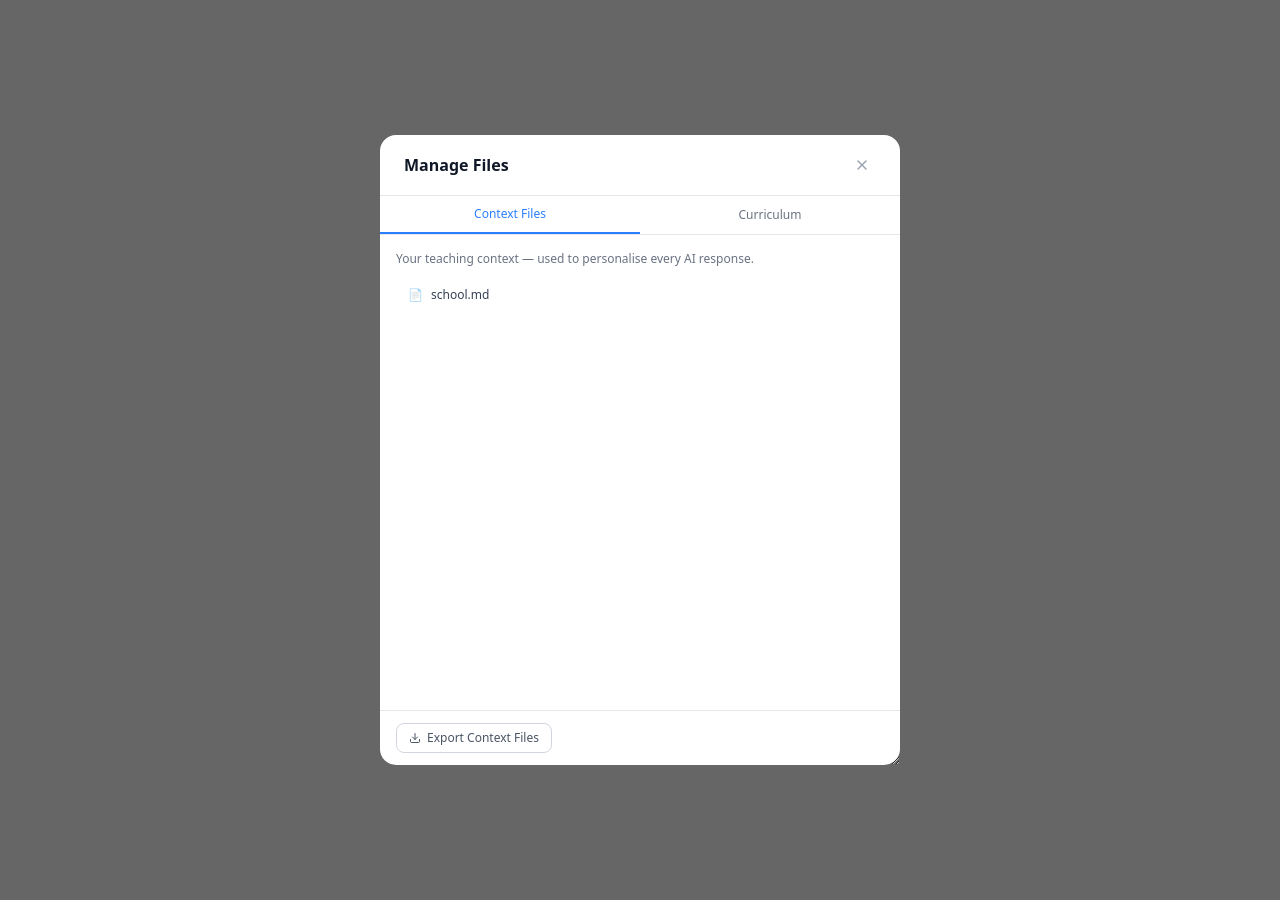
Scenario: ManageFilesModal › shows curriculum files when Curriculum tab is clicked
What coordinates should you click on to do the following:
click the button "Curriculum"
I would click on:
 (770, 215)
Its box is 640,196 -> 900,234.
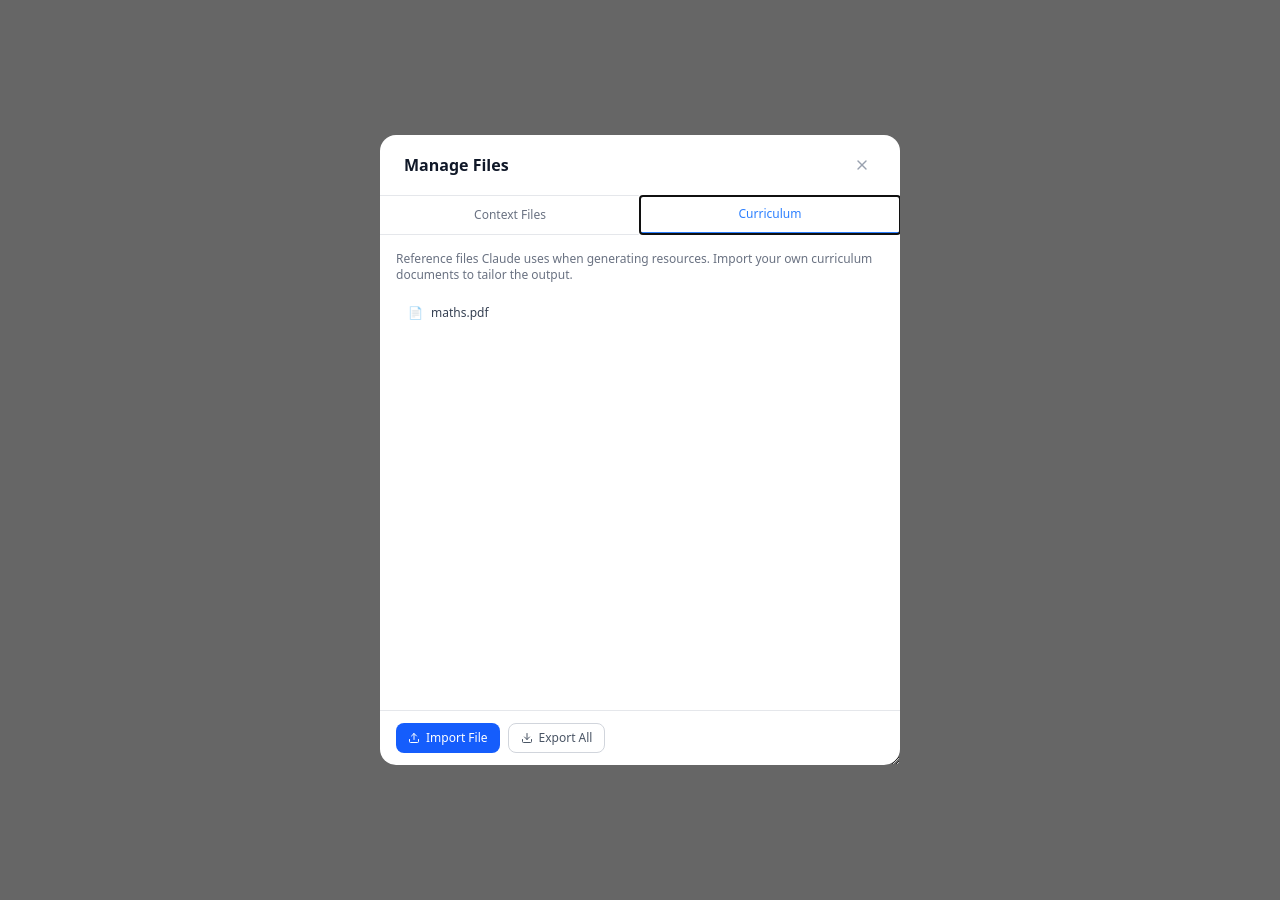
Check: the button "maths.pdf" is shown, box 431,305 -> 844,321
